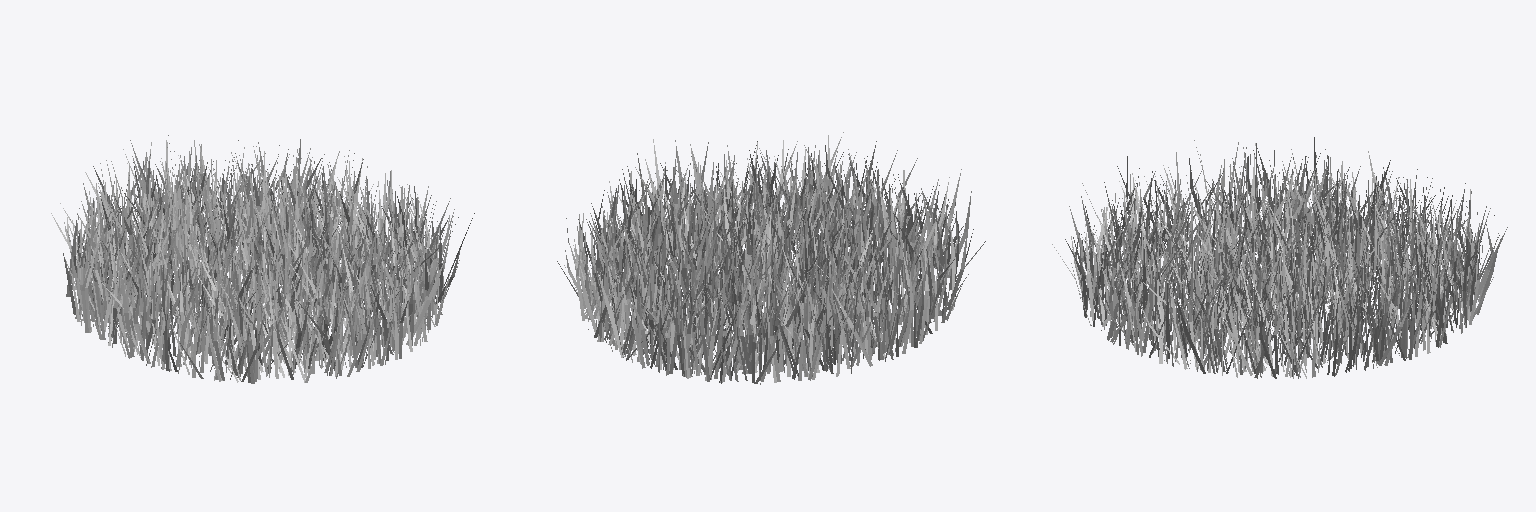
File: Grass.obj
The picture shows the model from 3 angles: view 1: azimuth 30°, elevation 25°; view 2: azimuth 150°, elevation 25°; view 3: azimuth 270°, elevation 25°; orthographic projection.
Visible parts, largest first — view 1: Grass; view 2: Grass; view 3: Grass.
Boxes of the visible parts, box(x1,y1,x2,y2) form: Grass: box(51, 135, 474, 383); Grass: box(557, 132, 985, 384); Grass: box(1052, 137, 1507, 378).
Size of the model in its own units: 7 by 1.81 by 8.06.